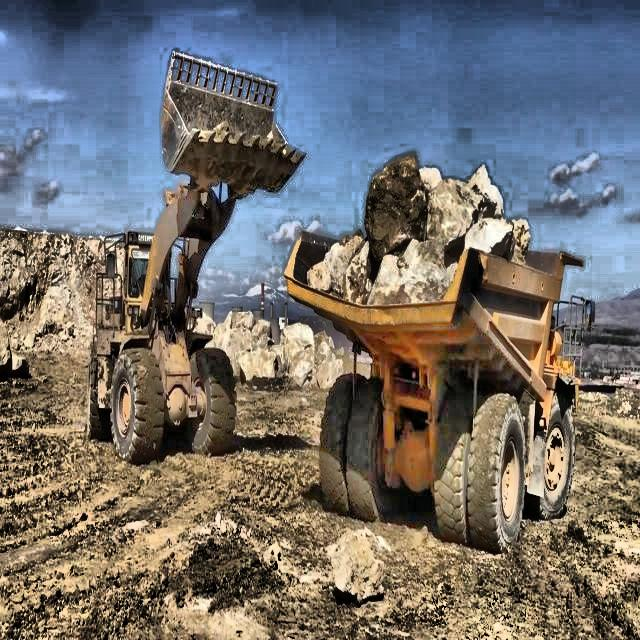bull_dozer/loader/grader: (81, 51, 307, 458)
dump_truck: (282, 236, 596, 554)
